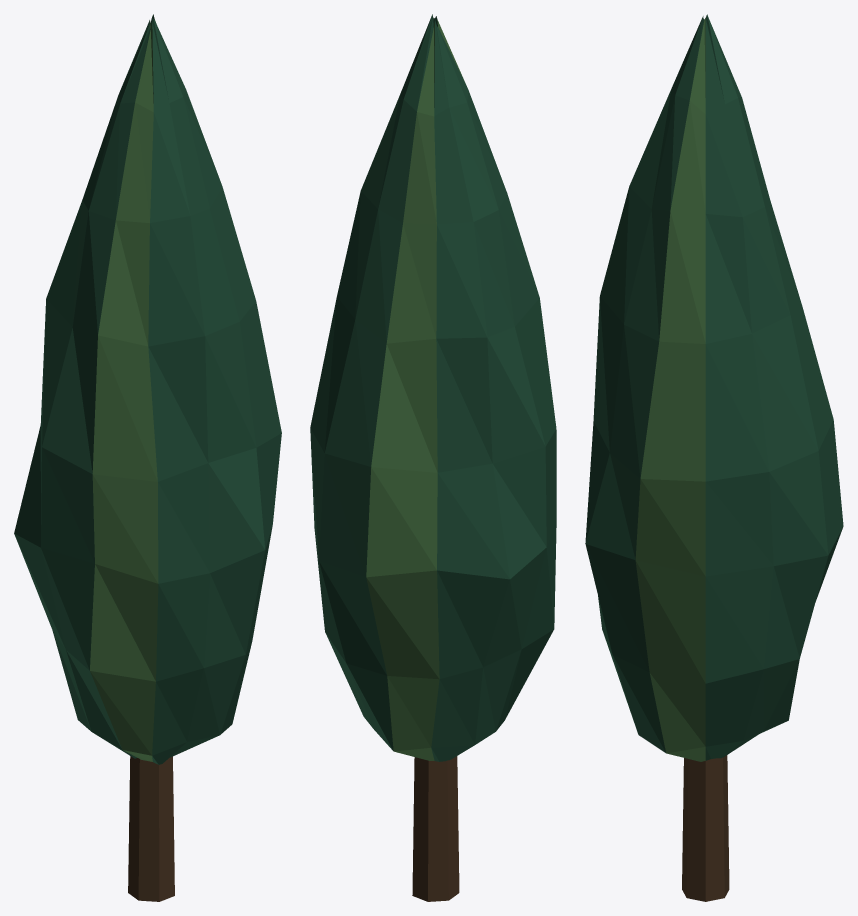
Rendered from cypress.obj.
3 renders of one model, left to right at view 1: azimuth 30°, elevation 25°; view 2: azimuth 150°, elevation 25°; view 3: azimuth 270°, elevation 25°, orthographic.
Bounding box in the file's own units: 1.92 × 7.16 × 1.91.
